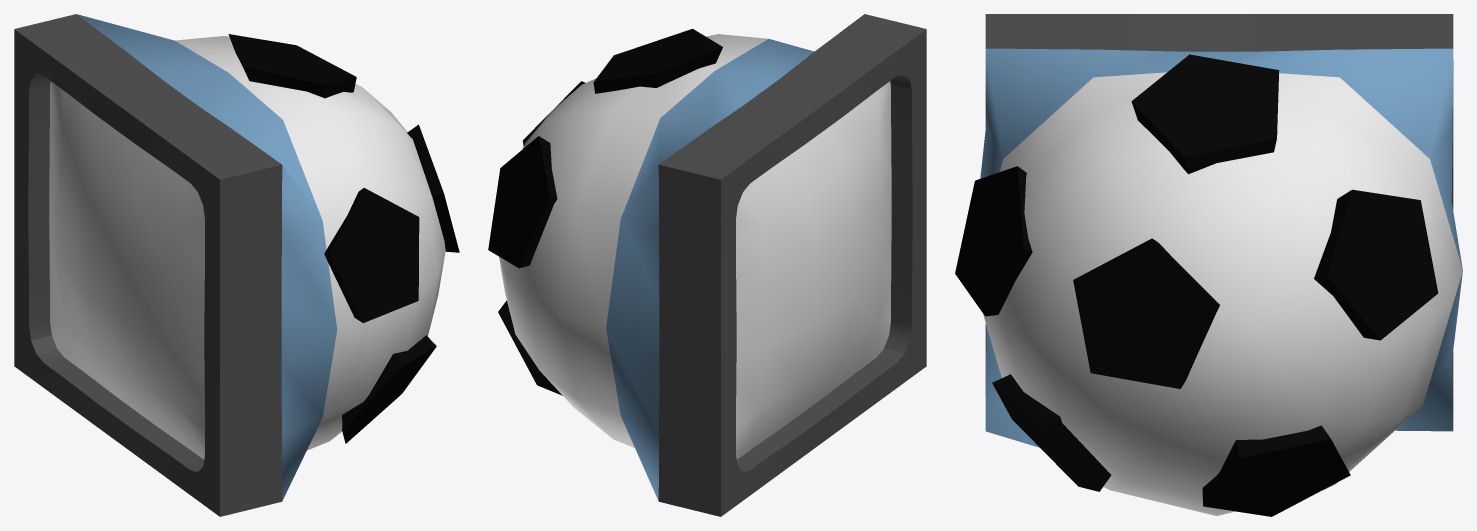
The model's file is Tv_Ball.fbx.
3 renders of one model, left to right at view 1: azimuth 30°, elevation 25°; view 2: azimuth 150°, elevation 25°; view 3: azimuth 270°, elevation 25°, orthographic. The views are drawn at different scales.
Parts seen in each view (by area): view 1: Tv_Ball; view 2: Tv_Ball; view 3: Tv_Ball.
Boxes of the visible parts, x1,y1,x2,y2 form: Tv_Ball: [14, 14, 459, 516]; Tv_Ball: [488, 14, 926, 516]; Tv_Ball: [955, 14, 1462, 516].
Size of the model in its own units: 72.54 by 83.65 by 87.25.
